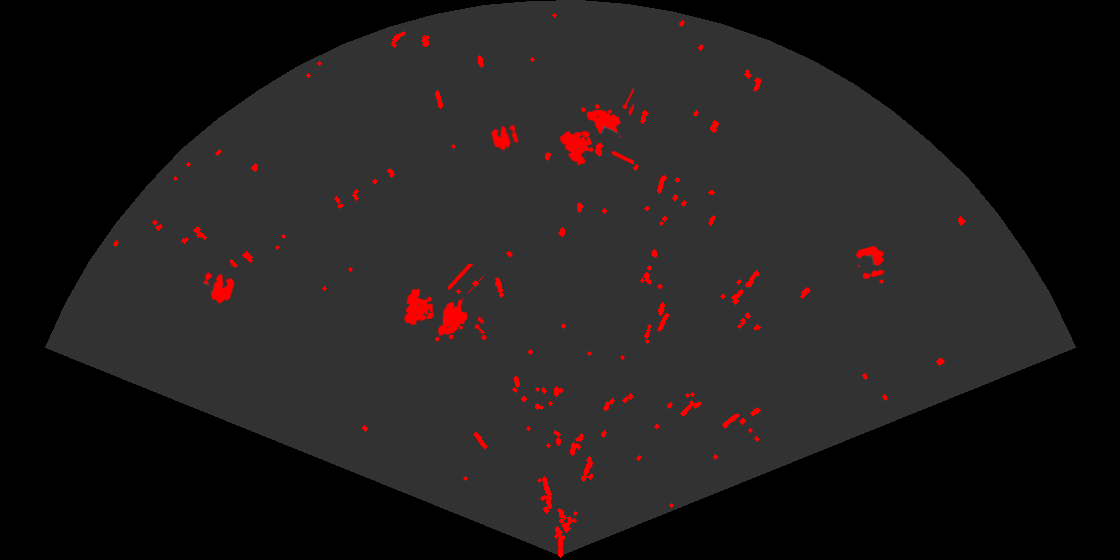ball: (854, 244, 886, 281), (202, 271, 236, 305), (490, 123, 520, 152)
cage: (403, 264, 484, 343), (558, 86, 634, 167)
